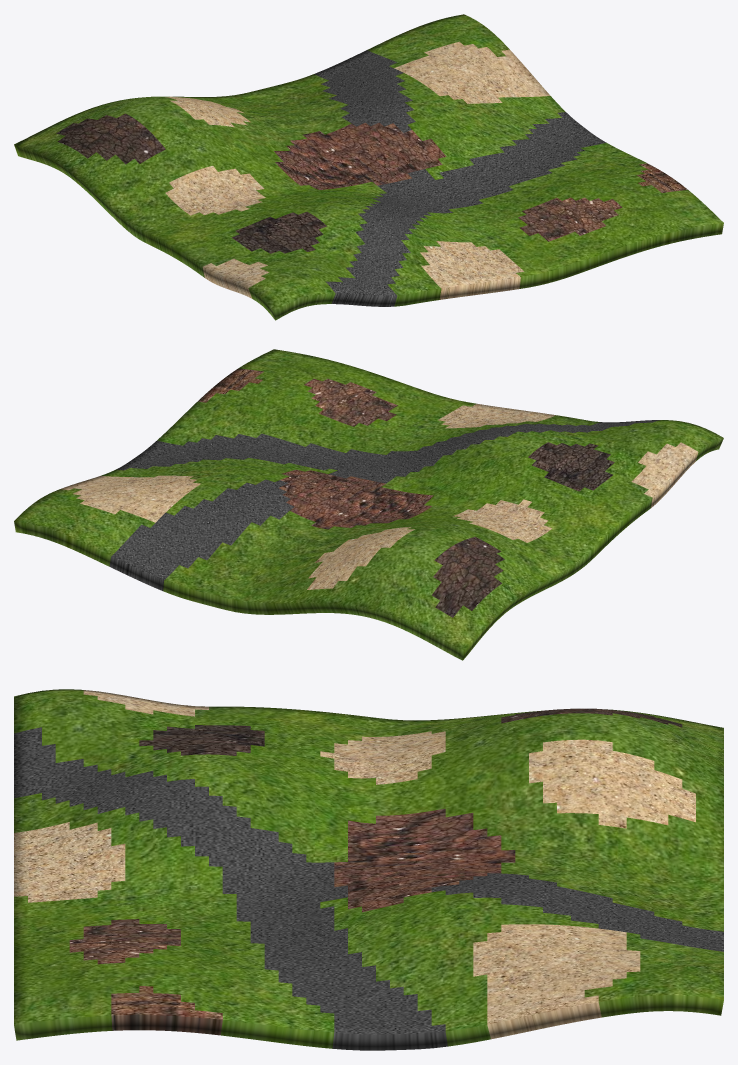
3 renders of one model, top to bottom at view 1: azimuth 30°, elevation 25°; view 2: azimuth 150°, elevation 25°; view 3: azimuth 270°, elevation 25°, orthographic. The views are drawn at different scales.
Visible parts, largest first — view 1: terrain; view 2: terrain; view 3: terrain.
Boxes of the visible parts, left/top/right/bottom form: terrain: left=14, top=14, right=723, bottom=320; terrain: left=14, top=349, right=723, bottom=660; terrain: left=14, top=689, right=723, bottom=1050.
Bounding box in the file's own units: 40 × 5.62 × 40.
4 materials, 4 textured.
